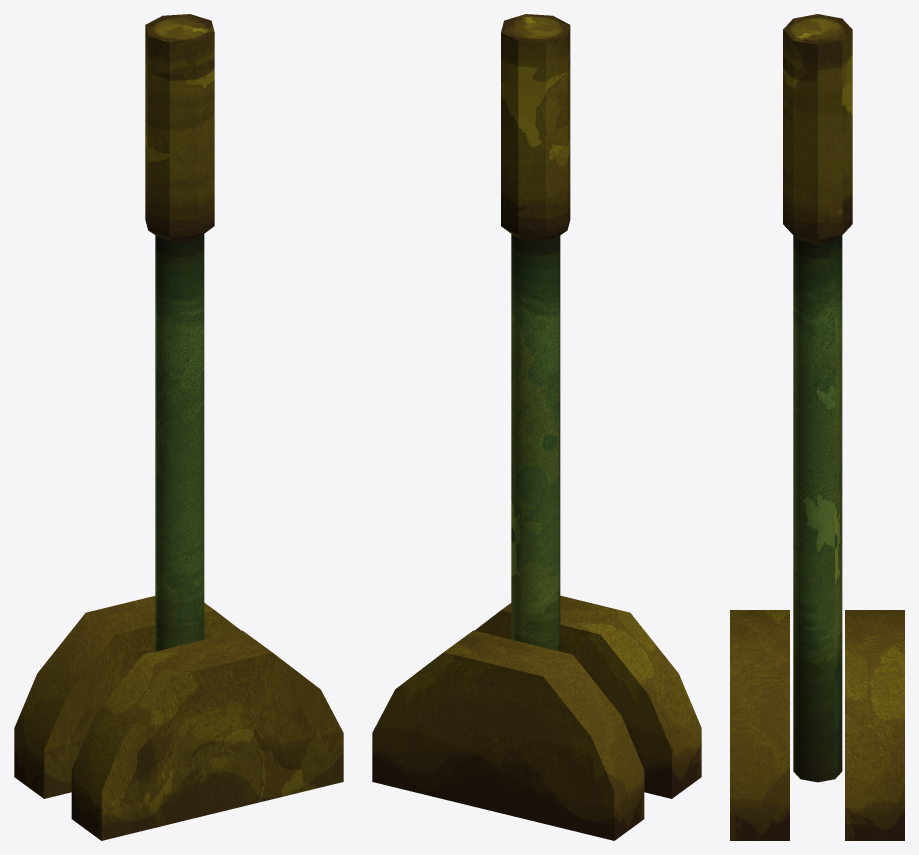
Rendered from Lever.FBX.
3 renders of one model, left to right at view 1: azimuth 30°, elevation 25°; view 2: azimuth 150°, elevation 25°; view 3: azimuth 270°, elevation 25°, orthographic.
Parts seen in each view (by area): view 1: Base, Handle; view 2: Base, Handle; view 3: Handle, Base.
Part boxes in pixels (<box>): Base: <box>14,596,343,840</box>; Handle: <box>145,14,214,651</box>; Base: <box>372,595,701,840</box>; Handle: <box>501,14,570,651</box>; Handle: <box>783,14,852,782</box>; Base: <box>730,610,904,840</box>.
Size of the model in its own units: 28.14 by 83.39 by 17.56.
